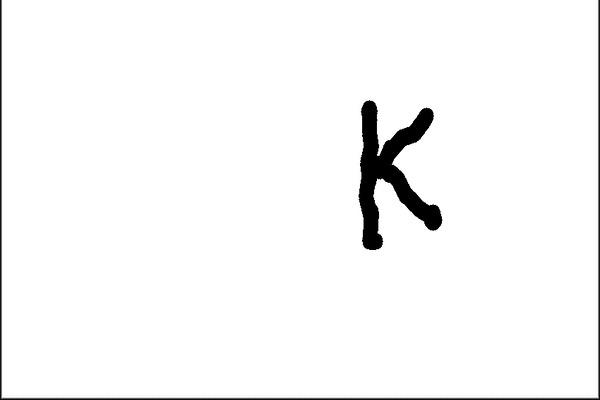K: (350, 94, 447, 253)
